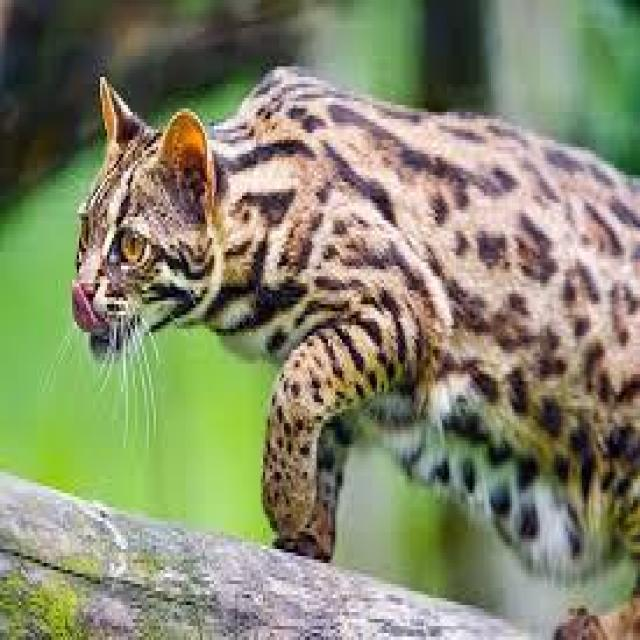leopard: (73, 64, 640, 574)
